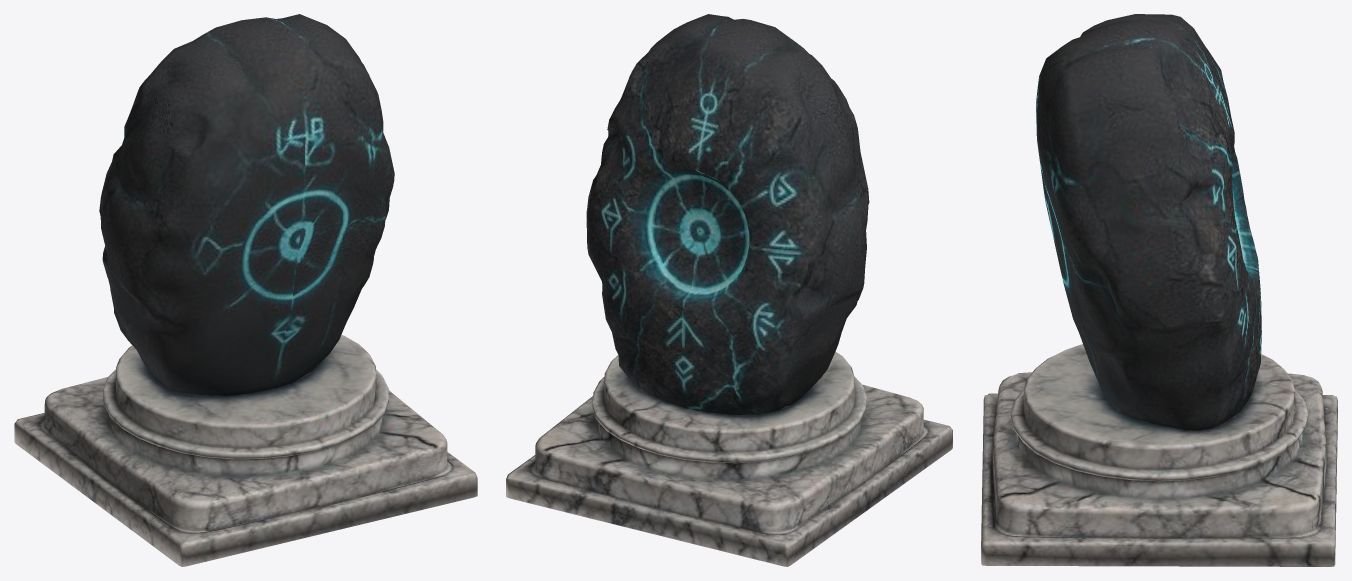
The model's file is oracle_stone.glb.
3 views of the same model, side by side, from view 1: azimuth 30°, elevation 25°; view 2: azimuth 150°, elevation 25°; view 3: azimuth 270°, elevation 25° (orthographic). The views are drawn at different scales.
Size of the model in its own units: 0.4153 by 0.6 by 0.4153.
1 material, 1 textured.
